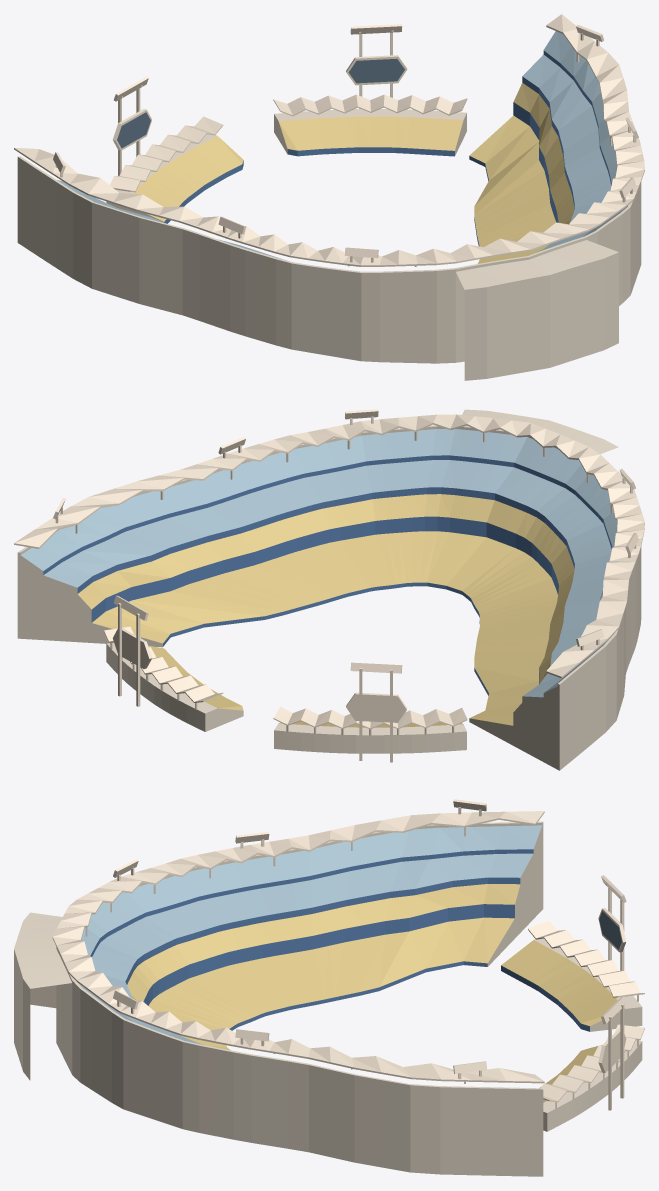
The model's file is la-dodger-stadium.glb.
The picture shows the model from 3 angles, top to bottom: view 1: azimuth 30°, elevation 25°; view 2: azimuth 150°, elevation 25°; view 3: azimuth 270°, elevation 25°; orthographic projection.
Parts seen in each view (by area): view 1: Dodger Stadium; view 2: Dodger Stadium; view 3: Dodger Stadium.
Part boxes in pixels (x1,y1,x2,y2): Dodger Stadium: (14, 14, 644, 380); Dodger Stadium: (14, 409, 644, 770); Dodger Stadium: (14, 799, 644, 1176).
Bounding box in the file's own units: 247 × 47.84 × 243.
